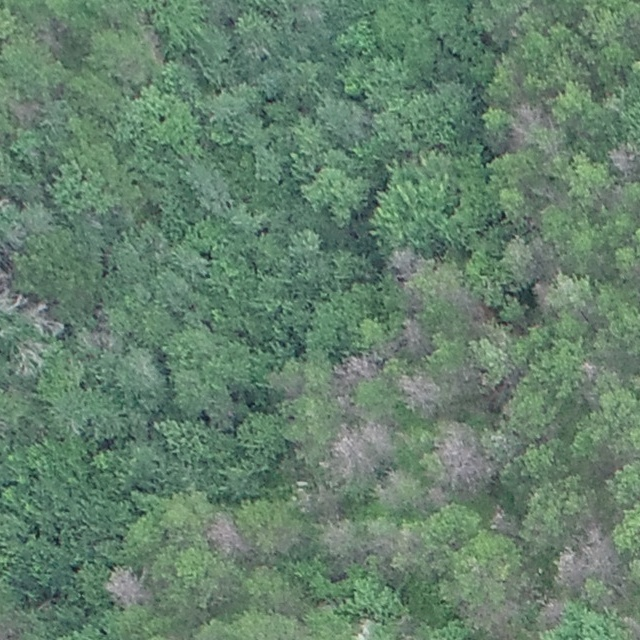unhealthy: (0, 290, 64, 378), (435, 422, 493, 494), (558, 522, 618, 588), (328, 424, 372, 479), (457, 598, 517, 637), (366, 525, 418, 567), (205, 511, 250, 556), (102, 566, 149, 608), (395, 373, 440, 415), (444, 286, 490, 326), (508, 100, 555, 136), (293, 485, 342, 518), (333, 353, 379, 386), (319, 517, 355, 559), (360, 419, 396, 456), (605, 141, 639, 178), (385, 245, 422, 278), (399, 317, 429, 354), (8, 97, 44, 126), (487, 507, 516, 536), (538, 597, 566, 627), (530, 277, 553, 310), (424, 485, 447, 507), (620, 613, 640, 638), (579, 360, 600, 380)
